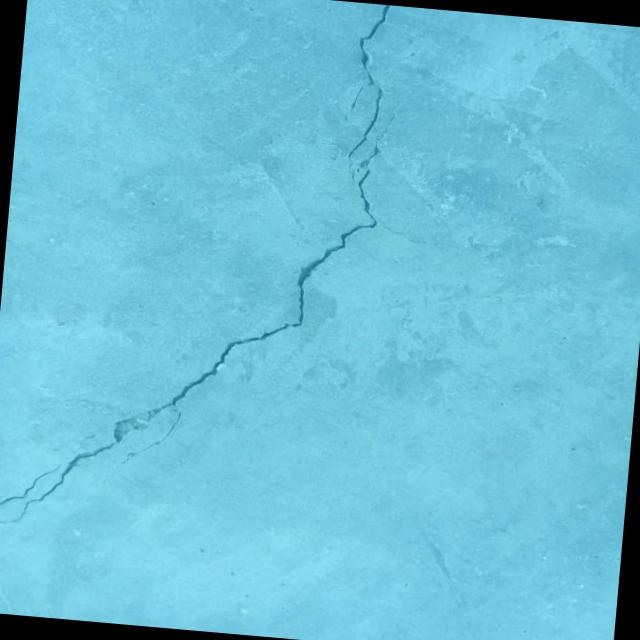crack: (0, 82, 394, 560), (344, 2, 390, 124), (0, 457, 61, 518), (122, 408, 181, 467), (346, 84, 384, 170), (379, 221, 440, 245)
